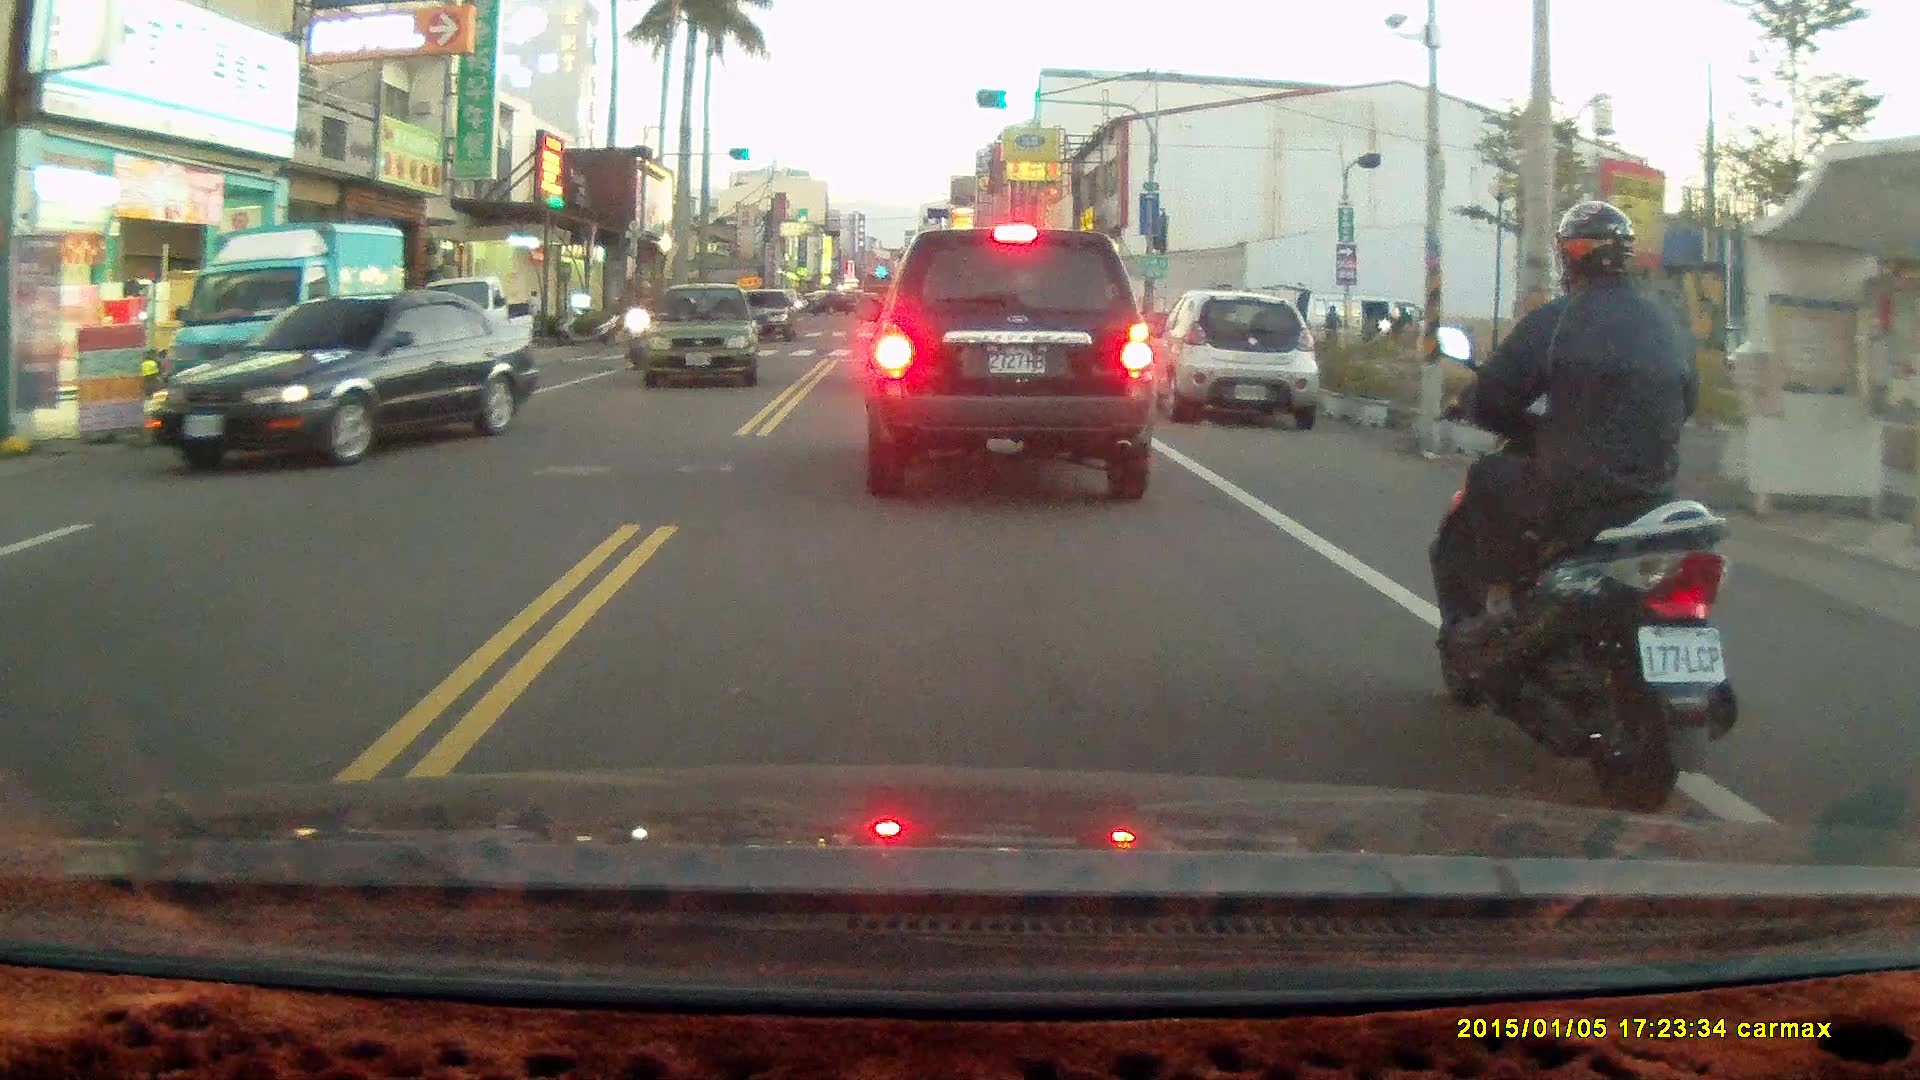rider: (1426, 192, 1739, 815), (618, 279, 663, 371)
vehicle: (861, 224, 1156, 503), (148, 292, 543, 474), (158, 224, 416, 417), (1154, 286, 1322, 431), (409, 273, 538, 383), (639, 280, 763, 393)
